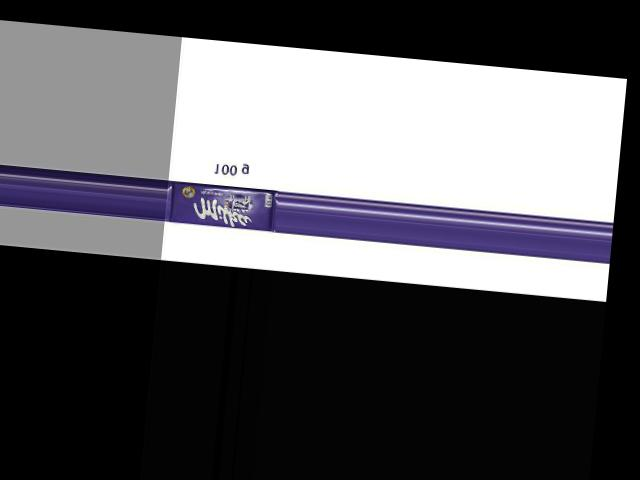chocolate: (167, 173, 280, 233)
